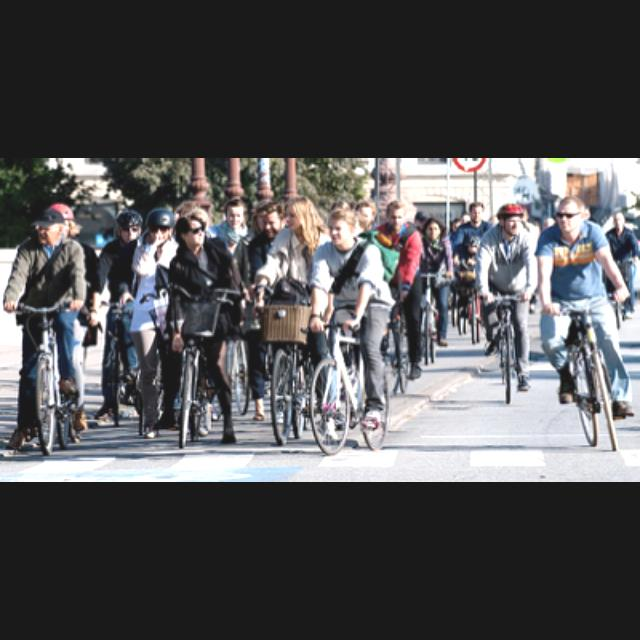With Helmet: (142, 205, 176, 243), (493, 200, 525, 234)
Without Helmet: (550, 195, 588, 233), (323, 204, 355, 246)
